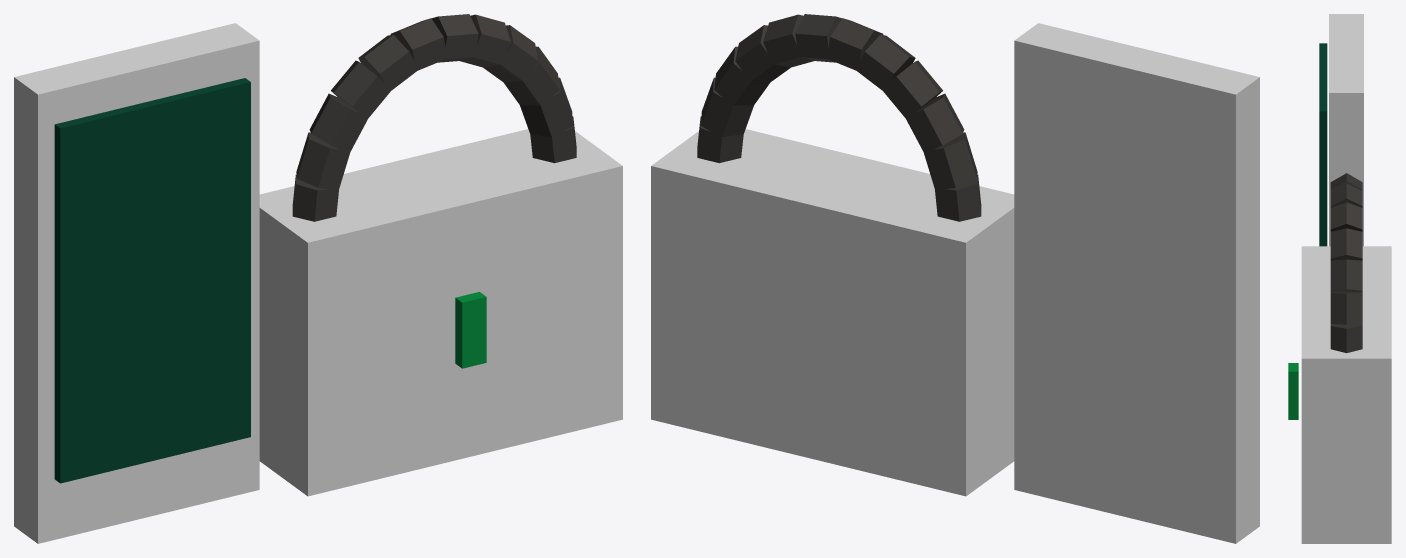
Rendered from P7_multi_factor_authentication.glb.
The picture shows the model from 3 angles, left to right: view 1: azimuth 30°, elevation 25°; view 2: azimuth 150°, elevation 25°; view 3: azimuth 270°, elevation 25°; orthographic projection. The views are drawn at different scales.
Parts seen in each view (by area): view 1: instance_white, instance_darkgreen, instance_ink, instance_green; view 2: instance_white, instance_ink; view 3: instance_white, instance_ink, instance_darkgreen, instance_green.
Boxes of the visible parts, x1=… form: instance_white: x1=14, y1=23, x2=622, y2=543; instance_darkgreen: x1=54, y1=78, x2=250, y2=483; instance_ink: x1=292, y1=14, x2=576, y2=221; instance_green: x1=455, y1=292, x2=486, y2=368; instance_white: x1=651, y1=23, x2=1259, y2=543; instance_ink: x1=697, y1=14, x2=981, y2=221; instance_white: x1=1301, y1=14, x2=1391, y2=543; instance_ink: x1=1330, y1=173, x2=1362, y2=352; instance_darkgreen: x1=1319, y1=43, x2=1327, y2=246; instance_green: x1=1288, y1=363, x2=1298, y2=419.
Bounding box in the file's own units: 0.8175 × 0.62 × 0.1768.
